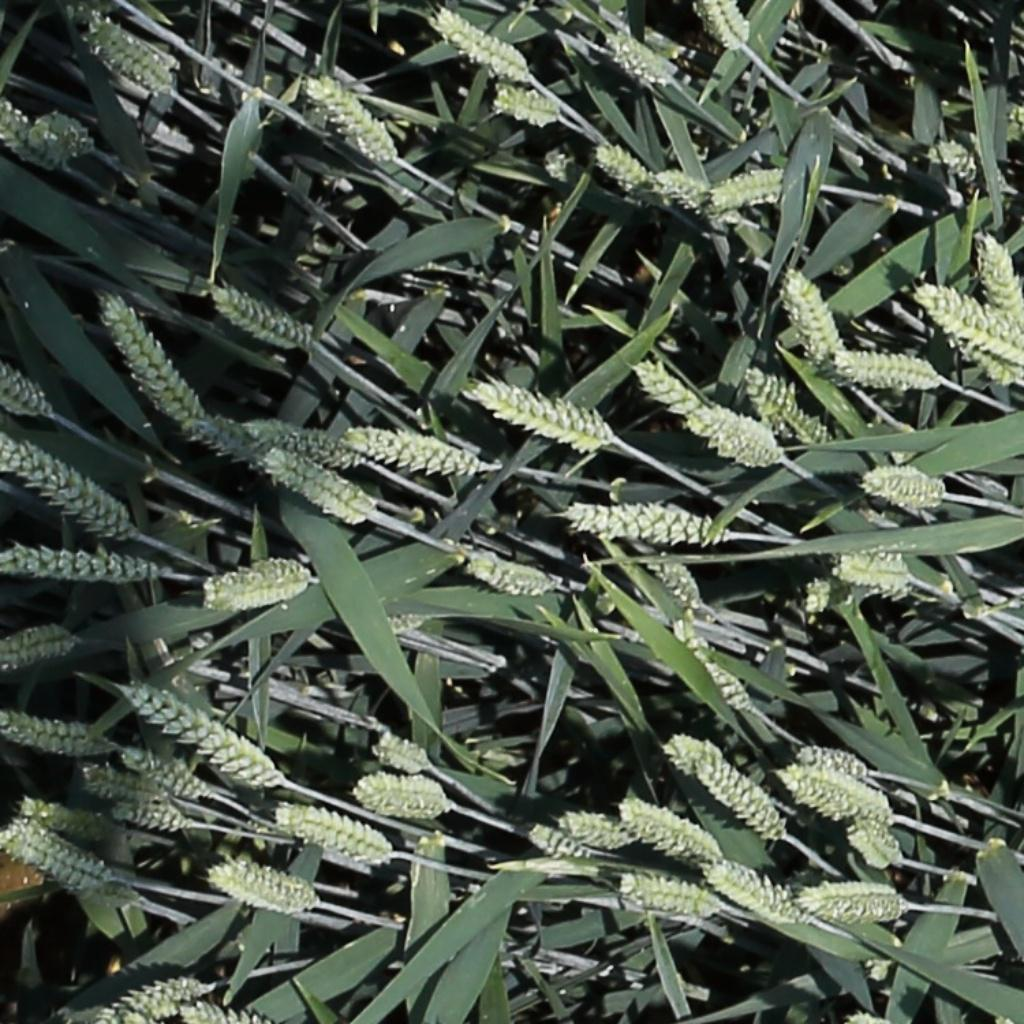0-0: (121, 682, 286, 790), (0, 435, 143, 547), (96, 289, 206, 428), (449, 369, 620, 455), (659, 729, 789, 842), (0, 818, 129, 900), (909, 282, 1024, 371), (301, 75, 405, 172), (257, 453, 383, 532), (266, 799, 404, 868), (178, 407, 297, 483), (670, 613, 755, 718), (557, 497, 735, 547), (337, 421, 492, 477), (424, 1, 534, 79), (742, 364, 841, 450), (774, 765, 899, 831), (618, 798, 737, 867), (84, 13, 179, 99), (817, 344, 946, 404), (0, 538, 166, 584), (199, 858, 327, 917), (231, 416, 370, 468), (344, 769, 463, 828), (199, 554, 316, 612), (0, 700, 111, 760), (696, 857, 796, 920), (779, 263, 843, 361), (210, 286, 309, 348), (681, 407, 783, 467), (447, 545, 562, 598), (652, 171, 744, 236), (0, 619, 93, 682), (825, 545, 921, 606), (792, 879, 915, 926), (612, 873, 724, 924), (0, 92, 66, 175), (850, 463, 948, 513), (977, 229, 1024, 331), (592, 143, 670, 204), (118, 748, 206, 801), (26, 106, 98, 166), (633, 359, 703, 419), (16, 801, 110, 842), (606, 28, 670, 86), (487, 83, 565, 130), (550, 809, 636, 850), (701, 409, 779, 454), (79, 770, 166, 809), (648, 555, 701, 618), (0, 357, 53, 417), (846, 816, 899, 872), (368, 731, 439, 772), (931, 135, 983, 187), (700, 1, 748, 54), (709, 169, 785, 202), (525, 826, 588, 864), (106, 805, 189, 832), (794, 746, 866, 776), (712, 0, 753, 50), (174, 1003, 263, 1024), (501, 862, 593, 879), (801, 572, 832, 621), (851, 956, 895, 985), (1008, 105, 1024, 144)
